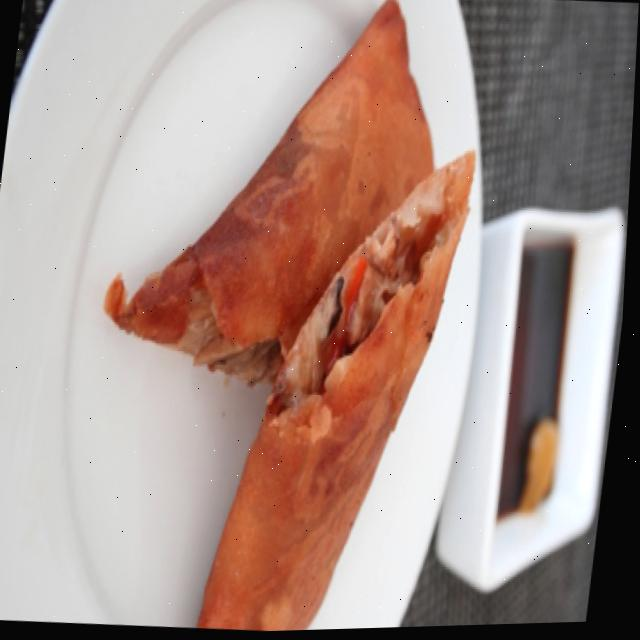鸡蛋料理: (61, 0, 497, 638)
